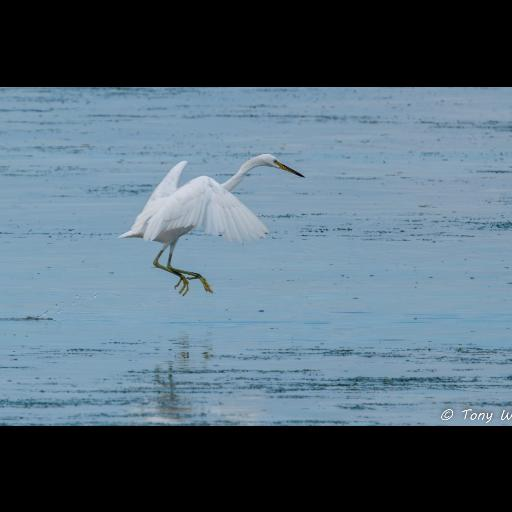chinese_egret: (118, 151, 304, 295)
